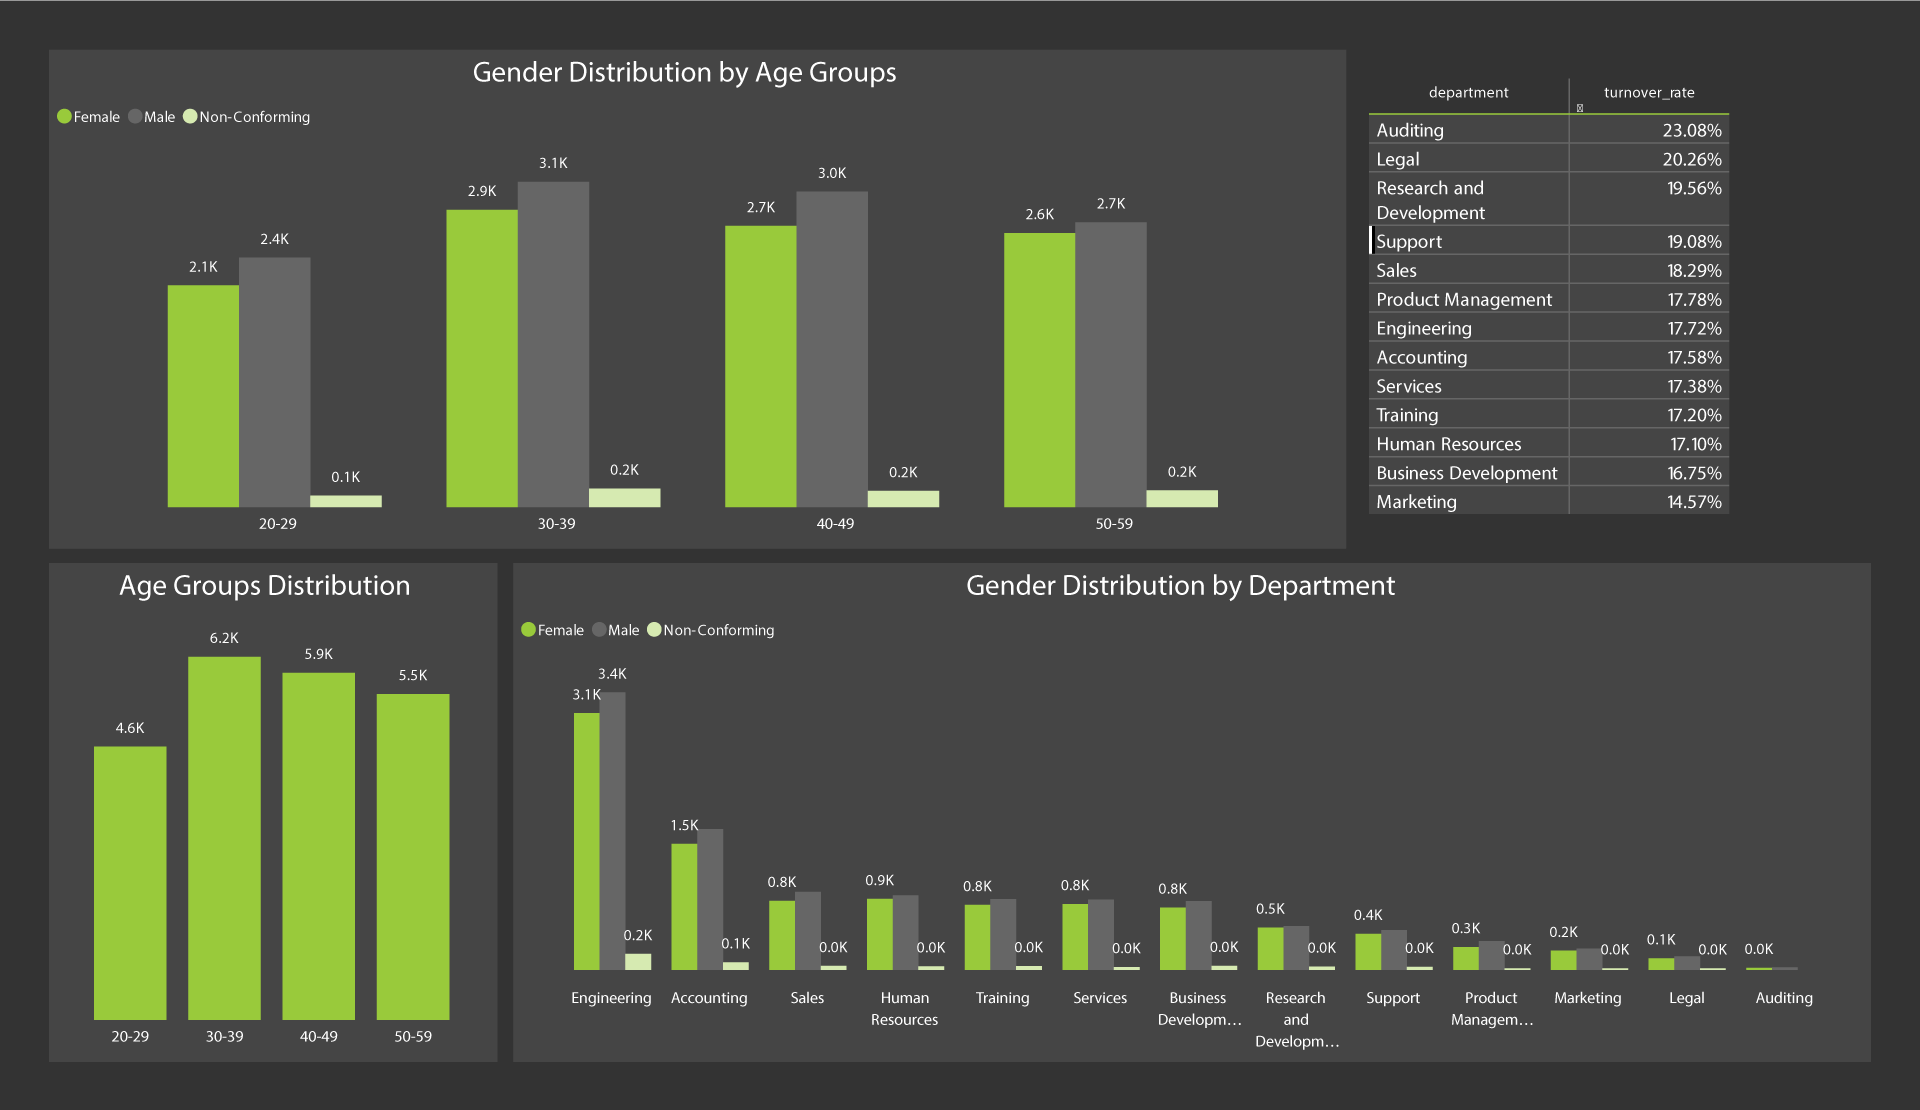

This screenshot's page, from the dashboard's own definition file:
{"tool":"powerbi","page":{"name":"Page 2","canvas":[1280,720],"ordinal":1},"visuals":[{"type":"clusteredColumnChart","title":"Gender Distribution by Age Groups","fields":{"Y":["CountNonNull(HR.emp_id)"],"Series":["HR.gender"],"Category":["HR.age_group"]},"box":[10,10,897,344.7],"z":0},{"type":"clusteredColumnChart","title":"Age Groups Distribution","fields":{"Y":["CountNonNull(HR.emp_id)"],"Category":["HR.age_group"]},"box":[10,364.7,309.8,345.7],"z":1000},{"type":"clusteredColumnChart","title":"Gender Distribution by Department","fields":{"Y":["CountNonNull(HR.emp_id)"],"Series":["HR.gender"],"Category":["HR.department"]},"box":[330.7,364.7,939.6,345.3],"z":2000},{"type":"tableEx","fields":{"Values":["turnover_rate.department","turnover_rate.turnover_rate"]},"box":[916.2,9.7,262.6,346.3],"z":3000}]}

Visuals, with their boxes in screenshot pixels (x1, y1, x2, y2), scaled from the page's 1280x720 canvas onto the 1920x1110 screenshot:
"Gender Distribution by Age Groups" clusteredColumnChart: 15 15 1360 547
"Age Groups Distribution" clusteredColumnChart: 15 562 480 1095
"Gender Distribution by Department" clusteredColumnChart: 496 562 1905 1095
tableEx - turnover_rate.department x turnover_rate.turnover_rate: 1374 15 1768 549
